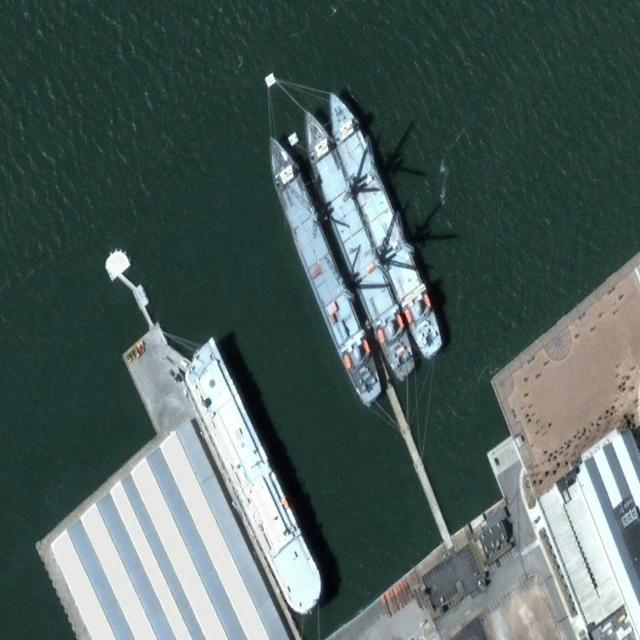Cargo: (257, 122, 388, 412), (318, 79, 449, 367), (293, 101, 422, 388)
RoRo: (175, 329, 330, 625)
